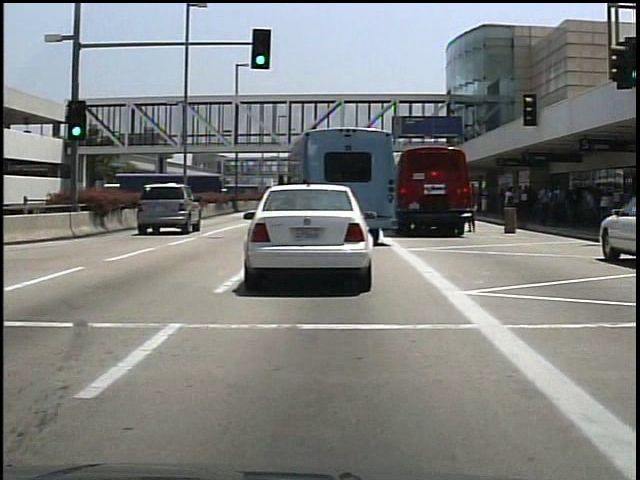person: (472, 186, 485, 236)
